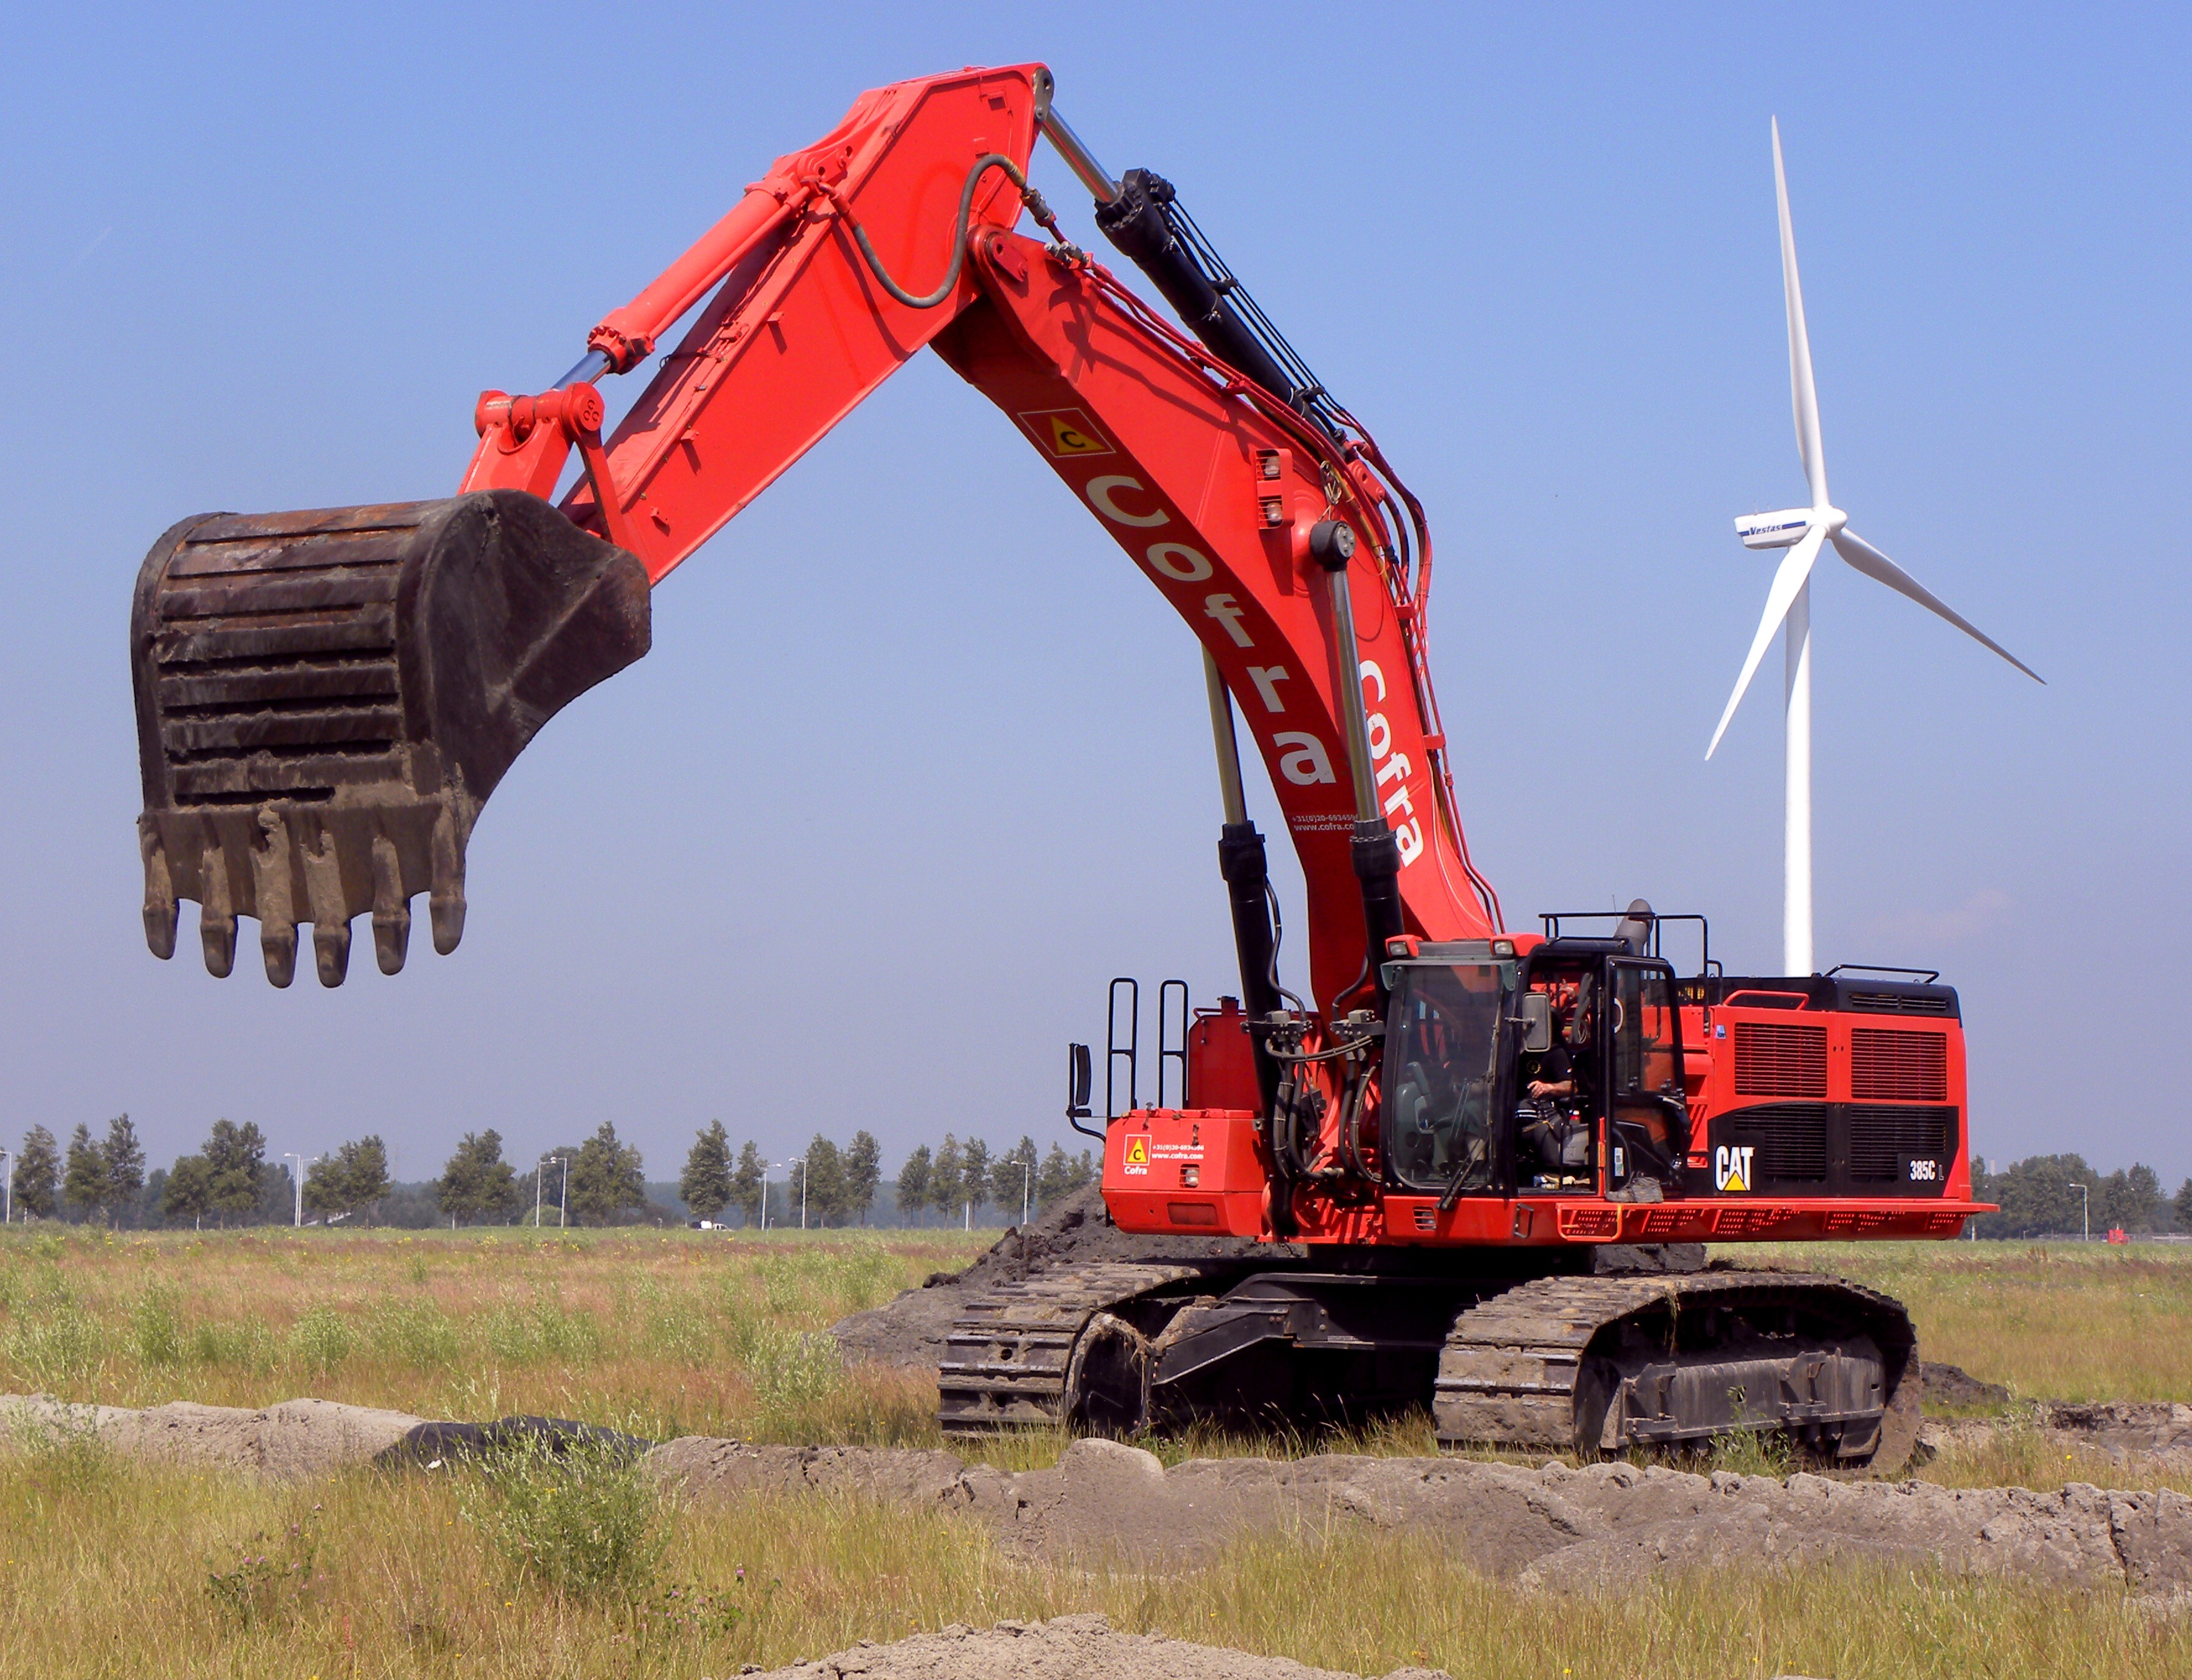excavator: (85, 41, 1968, 1509)
